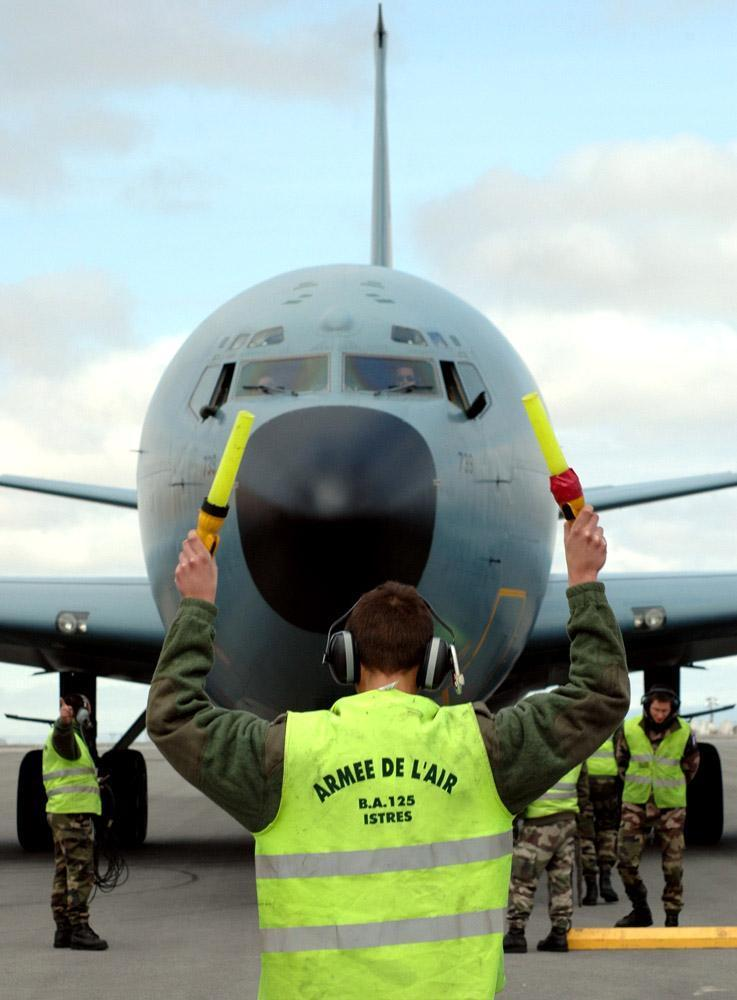vest: (242, 698, 522, 994), (42, 723, 110, 828), (623, 712, 689, 819)
